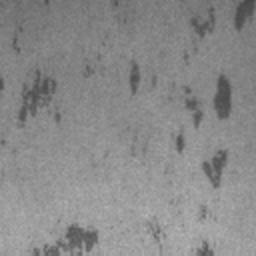Red iron sheet: (84, 0, 256, 256), (0, 31, 61, 145), (33, 224, 98, 256)
